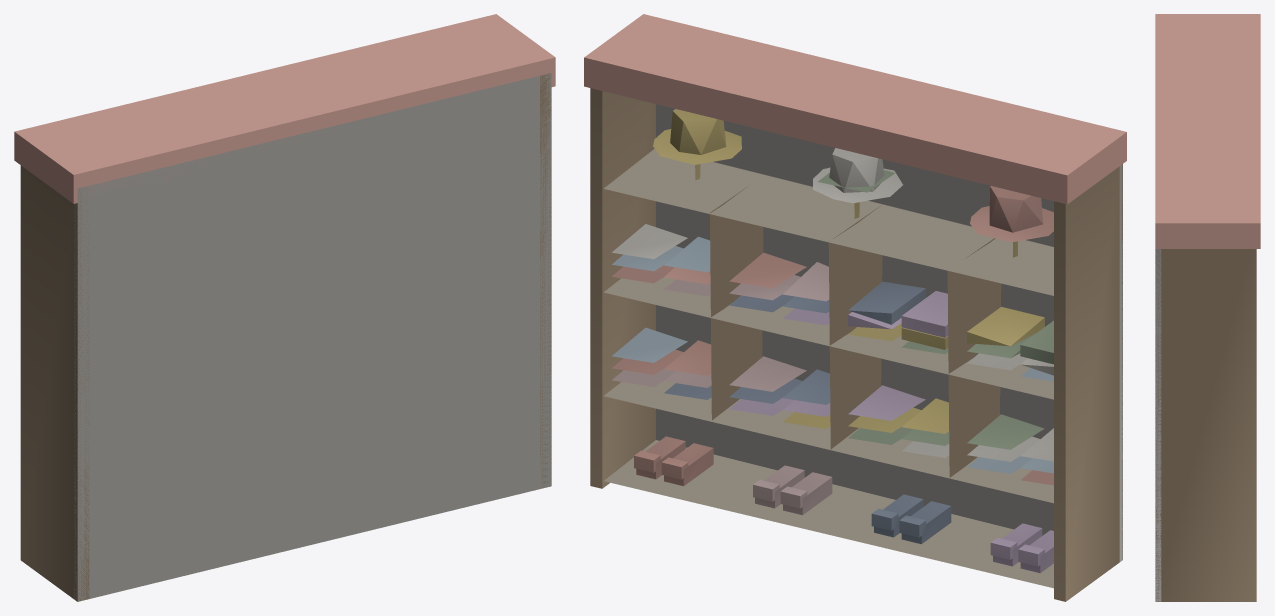
The model's file is wear_display_shelf_low.glb.
3 views of the same model, side by side, from view 1: azimuth 30°, elevation 25°; view 2: azimuth 150°, elevation 25°; view 3: azimuth 270°, elevation 25° (orthographic). The views are drawn at different scales.
Parts seen in each view (by area): view 1: wear.display_shelf; view 2: wear.display_shelf; view 3: wear.display_shelf.
Boxes of the visible parts, x1,y1,x2,y2 form: wear.display_shelf: (14, 14, 555, 601); wear.display_shelf: (584, 14, 1126, 601); wear.display_shelf: (1155, 14, 1260, 601).
Size of the model in its own units: 2.44 by 2.07 by 0.52.
